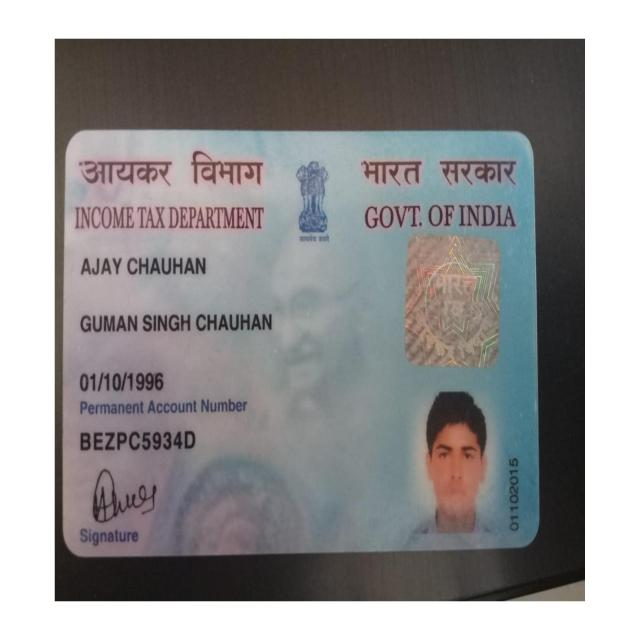pan_card: (65, 135, 534, 554)
